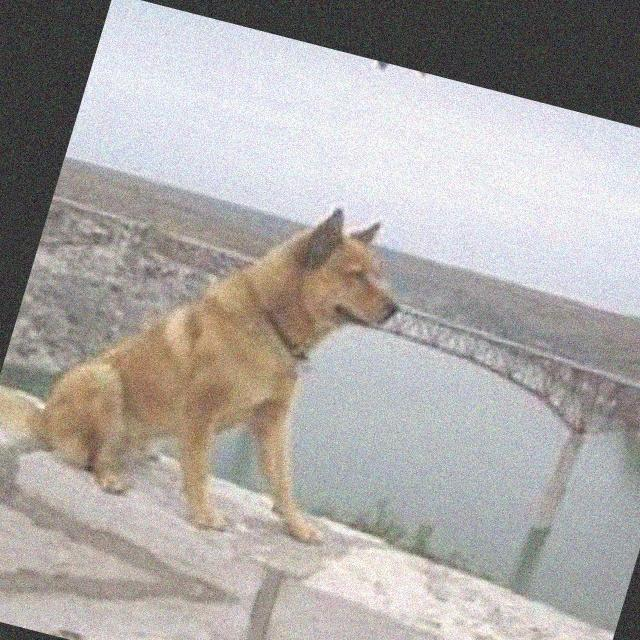dog: (36, 162, 439, 562), (0, 604, 307, 640)
